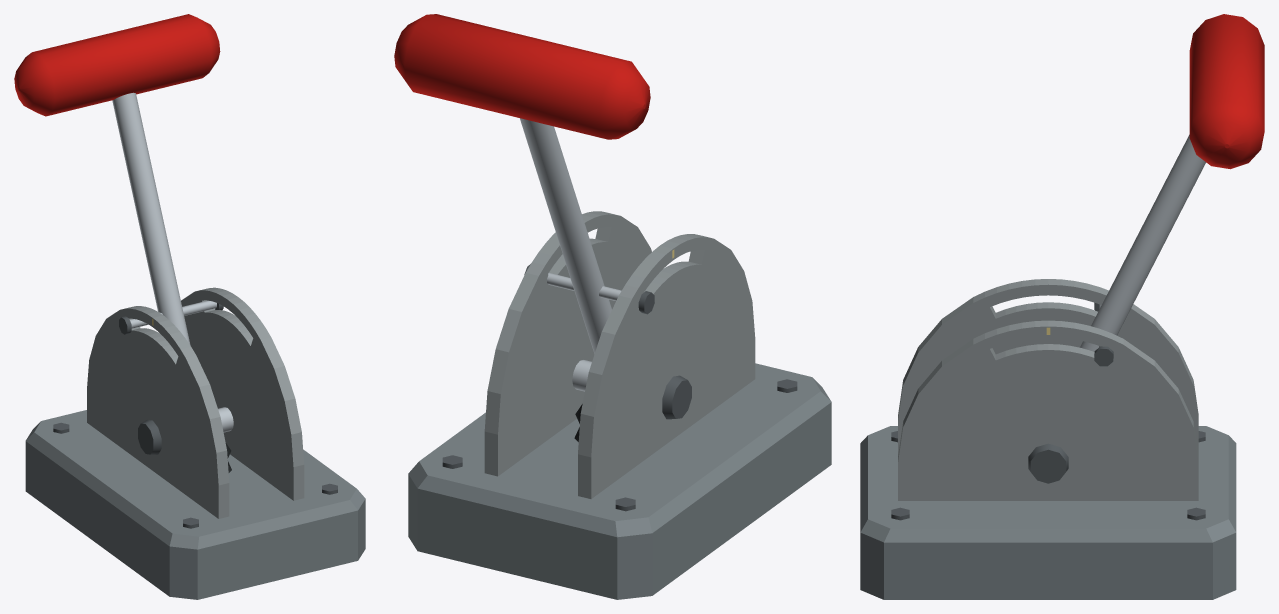
The model's file is lift-lever.glb.
3 views of the same model, side by side, from view 1: azimuth 30°, elevation 25°; view 2: azimuth 150°, elevation 25°; view 3: azimuth 270°, elevation 25° (orthographic). The views are drawn at different scales.
Parts seen in each view (by area): view 1: MountingPlate, GuideCheek_L, GuideCheek_R, HorizontalGrip, LeverShaft, PivotCap_L; view 2: MountingPlate, GuideCheek_L, HorizontalGrip, GuideCheek_R, LeverShaft, PivotCap_L; view 3: GuideCheek_R, MountingPlate, GuideCheek_L, HorizontalGrip, LeverShaft, PivotCap_R.
Part boxes in pixels (x1=…): MountingPlate: x1=25, y1=410, x2=365, y2=599; GuideCheek_L: x1=87, y1=306, x2=229, y2=518; GuideCheek_R: x1=181, y1=287, x2=304, y2=500; HorizontalGrip: x1=14, y1=14, x2=220, y2=116; LeverShaft: x1=112, y1=92, x2=190, y2=345; PivotCap_L: x1=138, y1=420, x2=161, y2=454; MountingPlate: x1=408, y1=363, x2=831, y2=599; GuideCheek_L: x1=578, y1=234, x2=755, y2=498; HorizontalGrip: x1=394, y1=14, x2=650, y2=139; GuideCheek_R: x1=484, y1=211, x2=651, y2=476; LeverShaft: x1=519, y1=118, x2=611, y2=353; PivotCap_L: x1=662, y1=375, x2=691, y2=419; GuideCheek_R: x1=898, y1=320, x2=1198, y2=500; MountingPlate: x1=860, y1=426, x2=1236, y2=599; GuideCheek_L: x1=898, y1=279, x2=1198, y2=455; HorizontalGrip: x1=1189, y1=14, x2=1264, y2=169; LeverShaft: x1=1080, y1=134, x2=1205, y2=351; PivotCap_R: x1=1028, y1=443, x2=1068, y2=483.
Size of the model in its own units: 0.11 by 0.2291 by 0.172.
